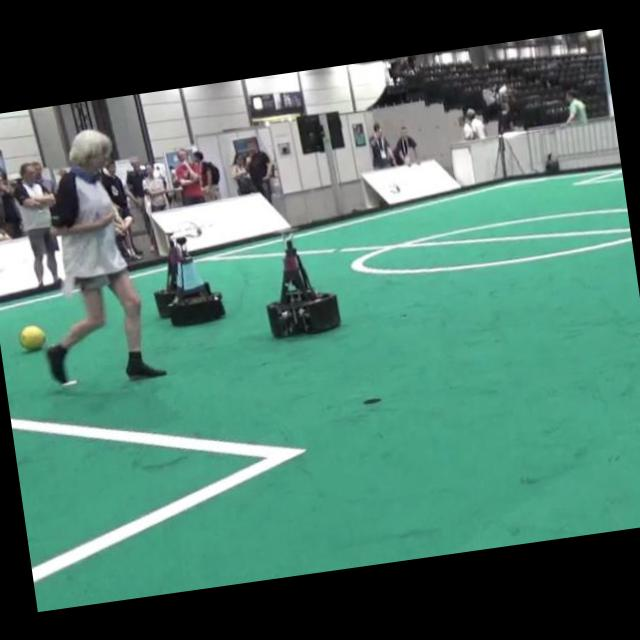ball: (18, 323, 45, 349)
robot: (267, 238, 339, 336), (170, 236, 225, 325), (153, 239, 181, 315)
